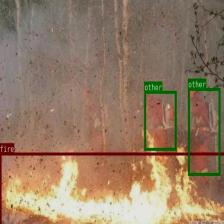fire: (0, 152, 224, 224)
